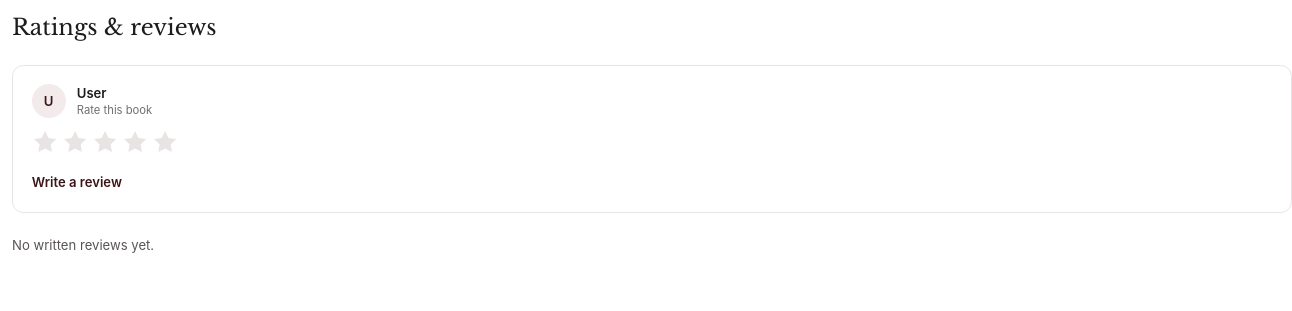
Scenario: BookReviews › should keep the editor closed when the first rating fails
Click the button named "Rate 4 of 5": (135,142) [122,129,148,156]
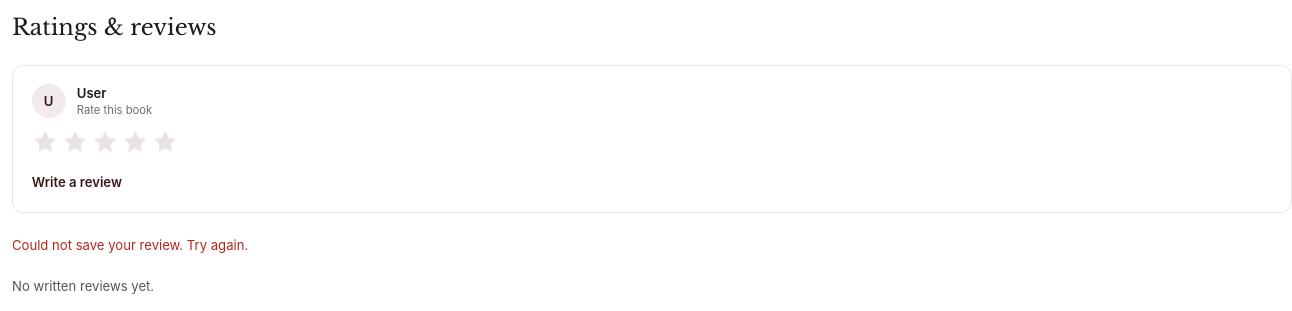
Expected: the message reads "Could not save your review. Try again.", [12,236,248,252]
